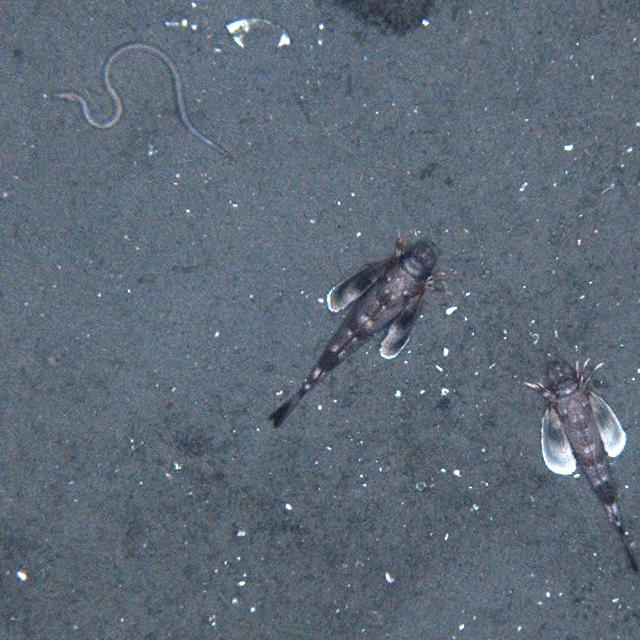roundfish: (264, 235, 440, 436), (521, 350, 640, 580)
